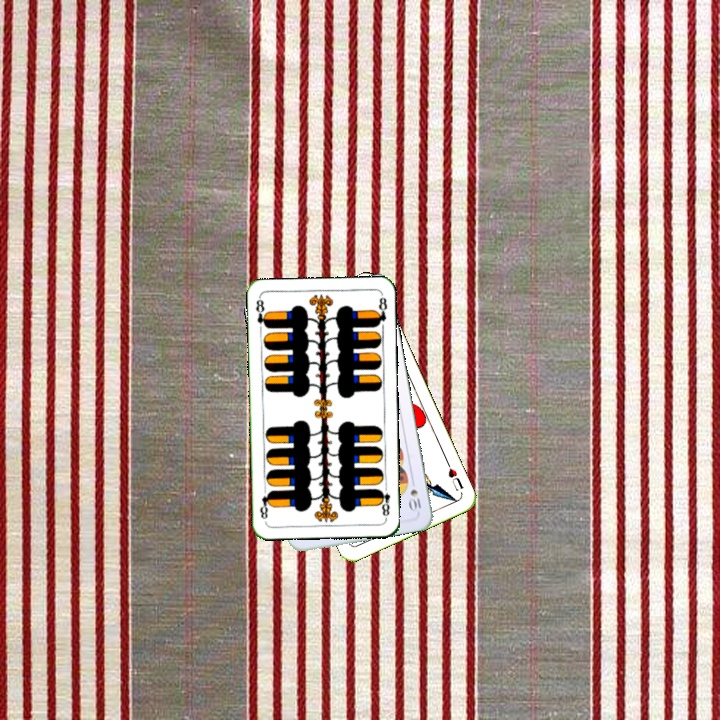E8: (375, 480, 392, 521), (252, 294, 270, 331)
HU: (442, 458, 466, 494)
S10: (406, 474, 424, 514)
